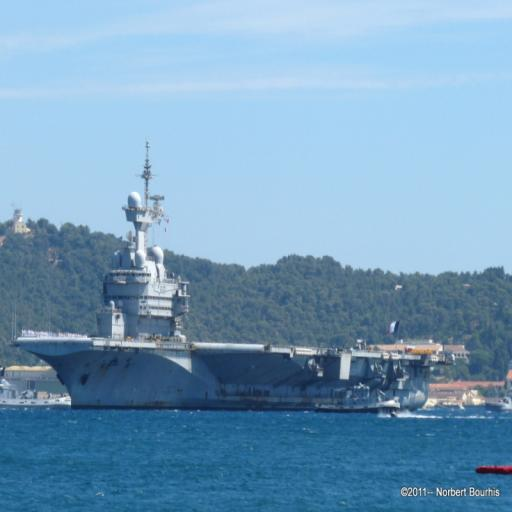Portanaves: (12, 140, 458, 412)
